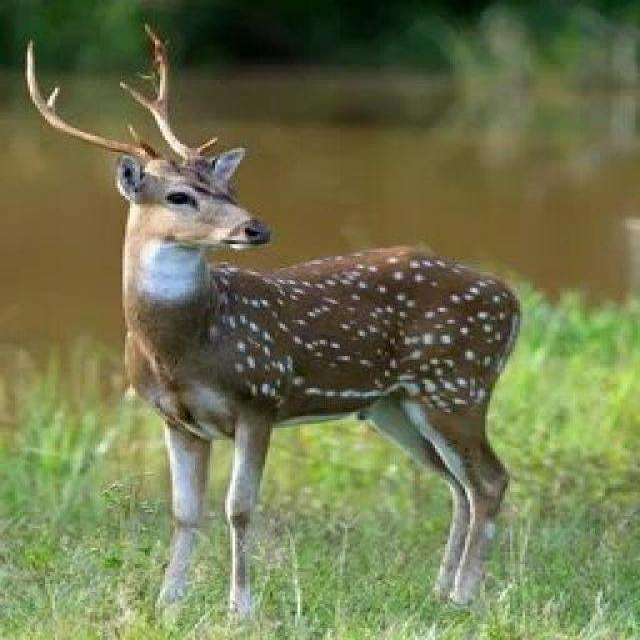deer: (23, 25, 545, 611)
